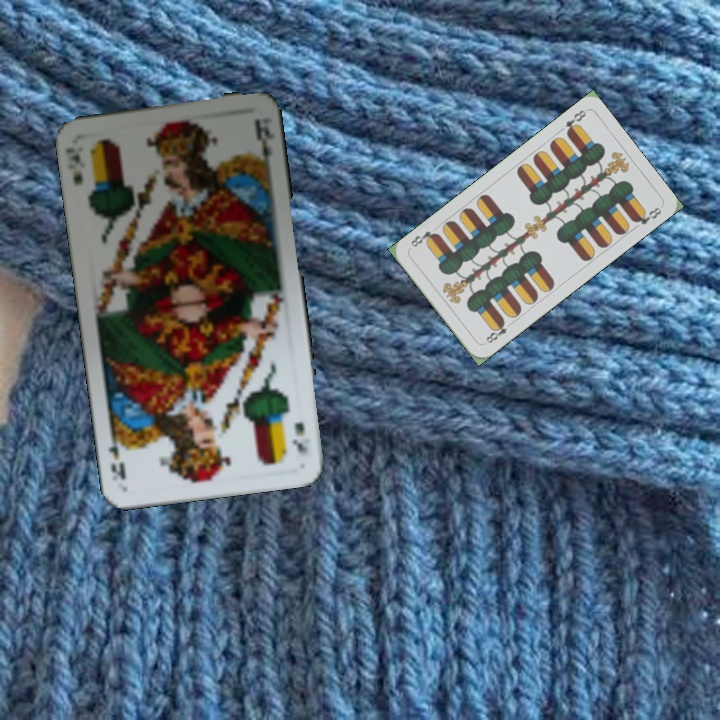E8: (480, 316, 515, 347), (561, 106, 589, 138)
EK: (289, 417, 309, 456), (66, 149, 85, 188)
